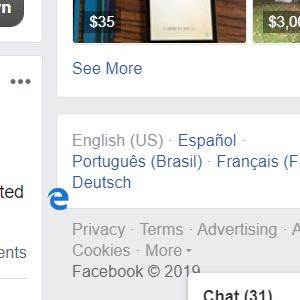edge: (48, 188, 69, 210)
